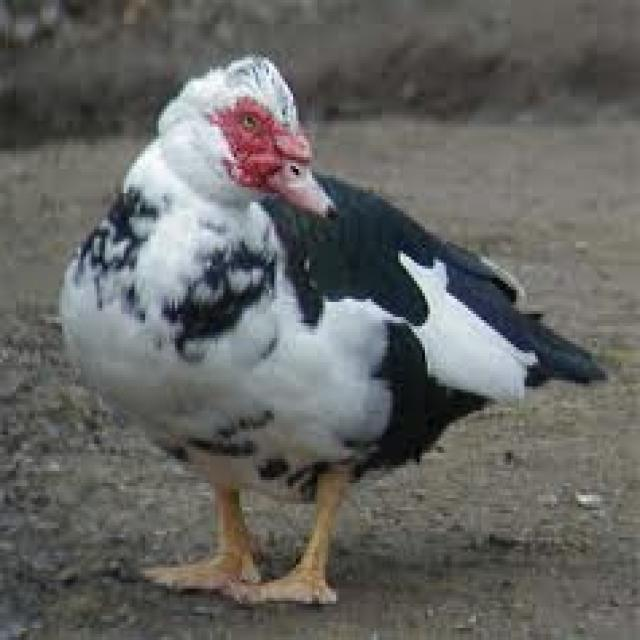duck: (62, 57, 605, 601)
